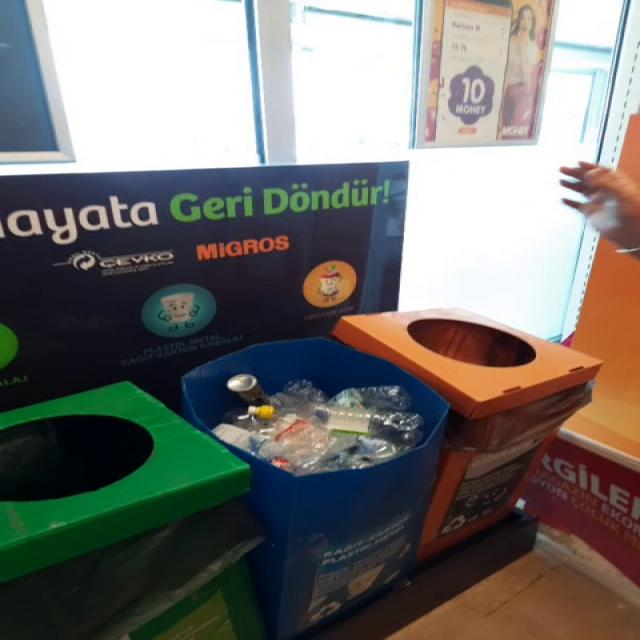metal: (227, 374, 269, 406)
